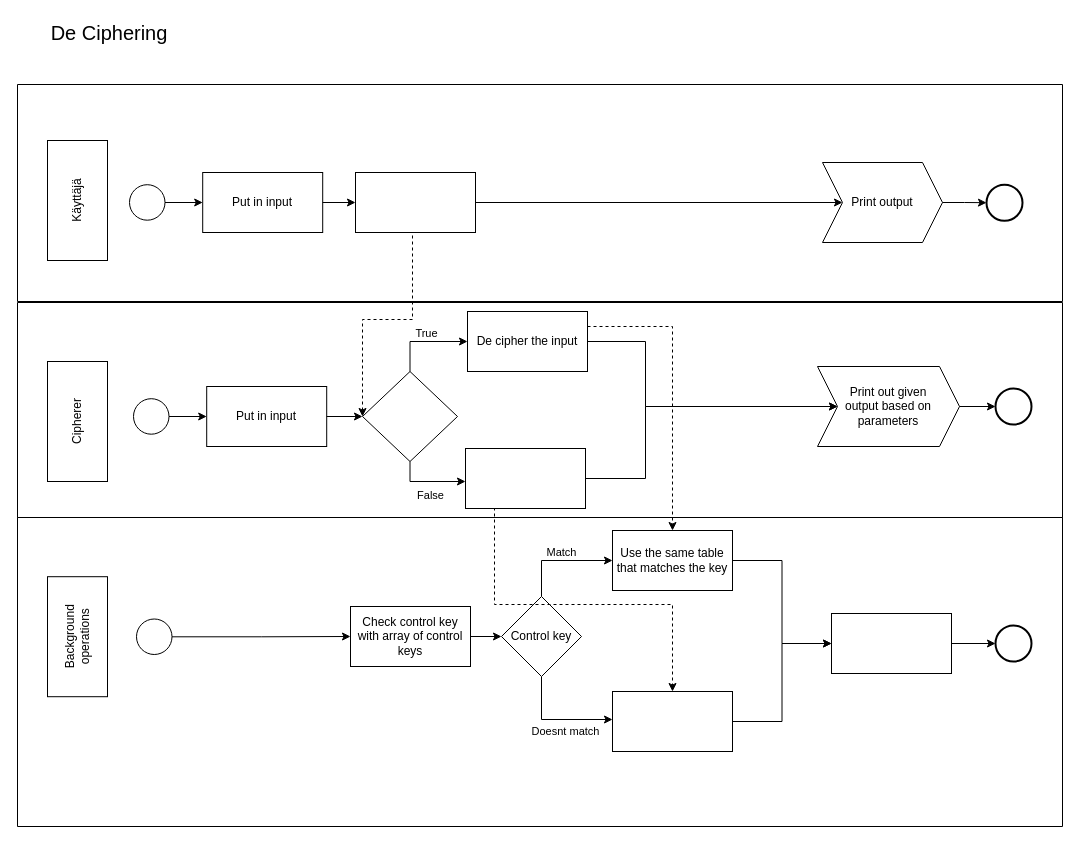
The diagram is 1080 pixels wide and 844 high, and some of its shapes have lost their labels. The box of each missing label's shape, as (x1, y1, x2, y2) in pixels:
If Control key: (362, 370, 458, 462)
Print out the output: (830, 612, 952, 674)
Put in control key: (354, 172, 476, 232)
Return error / cipher the text once again: (464, 448, 586, 508)
Returns error message: (612, 690, 732, 752)
